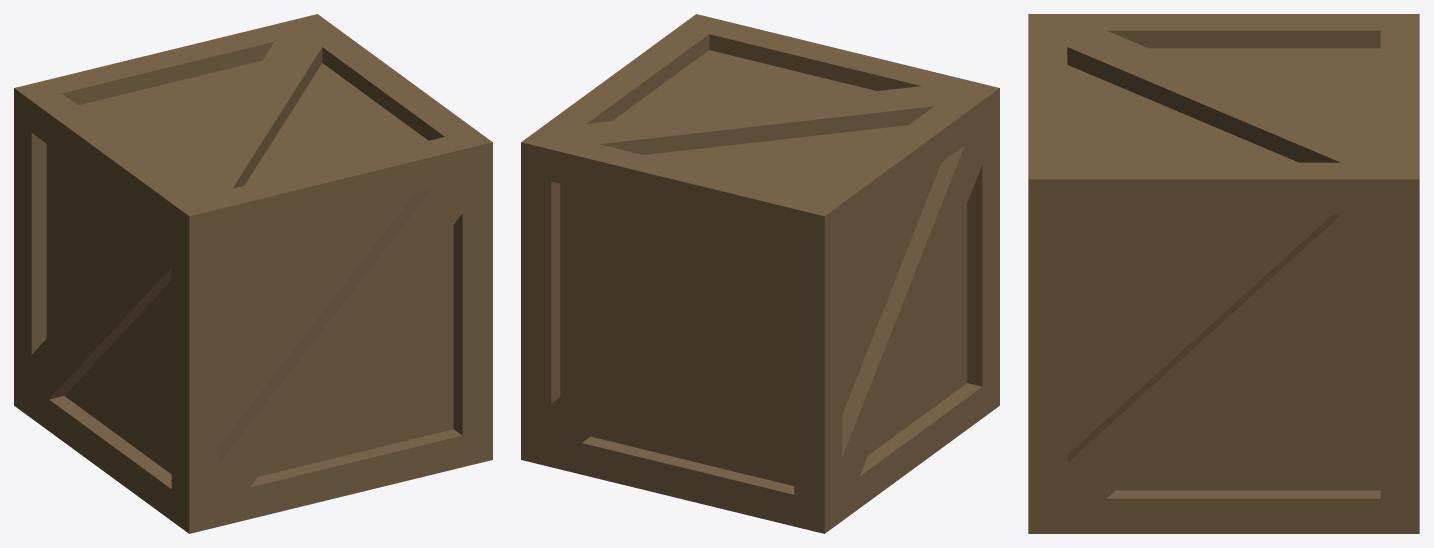
Rendered from crate_whole.fbx.
3 renders of one model, left to right at view 1: azimuth 30°, elevation 25°; view 2: azimuth 150°, elevation 25°; view 3: azimuth 270°, elevation 25°, orthographic. The views are drawn at different scales.
Visible parts, largest first — view 1: crateWhole; view 2: crateWhole; view 3: crateWhole.
Boxes of the visible parts, box(x1,y1,x2,y2) form: crateWhole: box(14, 14, 492, 533); crateWhole: box(521, 14, 999, 533); crateWhole: box(1028, 14, 1419, 533).
Bounding box in the file's own units: 40 × 40 × 40.
